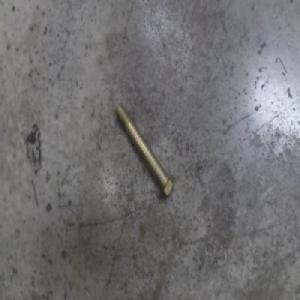Bolt: (114, 100, 176, 200)
